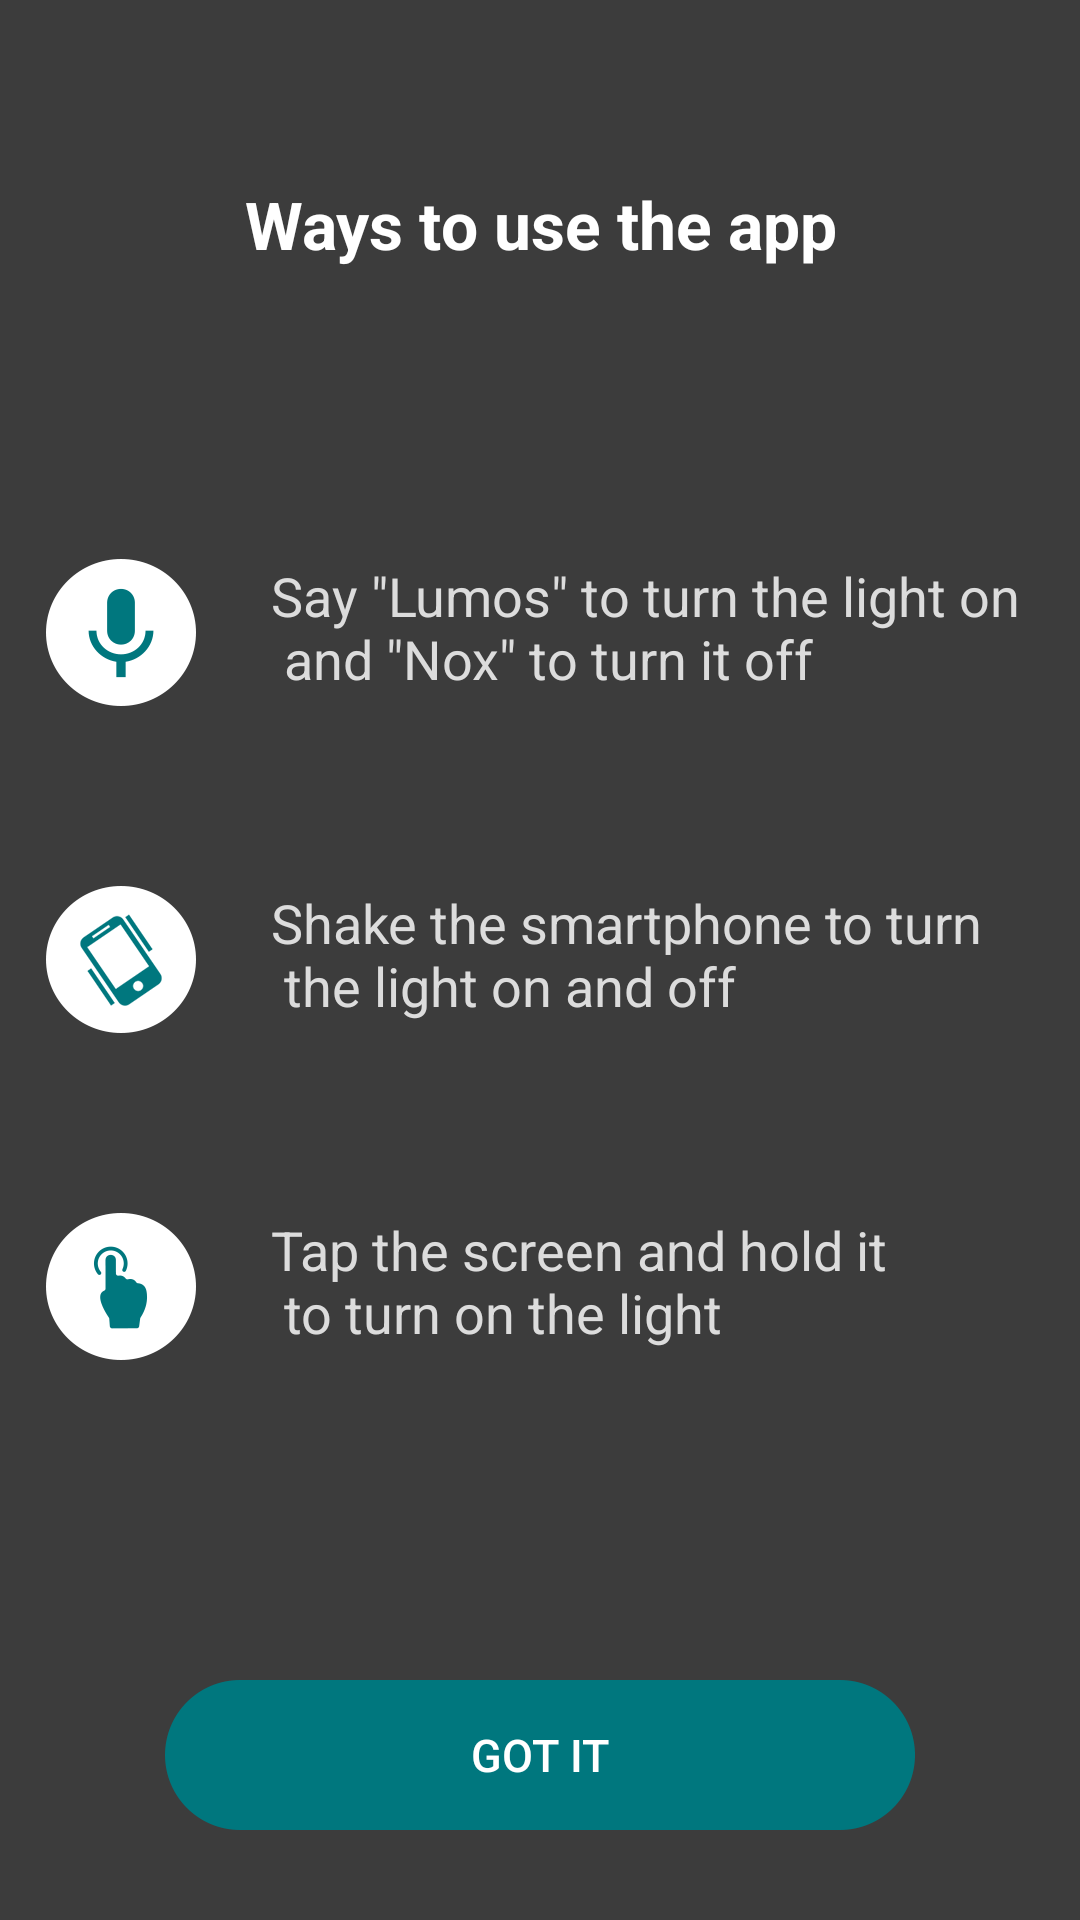

Where icons sit on this 1080*1920 app screen, as [x1, y1, x2, y2]:
touch: [46, 1213, 196, 1360]
voice: [46, 559, 196, 706]
